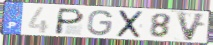4: (27, 6, 51, 35)
8: (149, 13, 173, 39)
G: (86, 9, 114, 37)
P: (53, 7, 86, 35)
V: (176, 11, 208, 42)
X: (115, 9, 145, 39)
